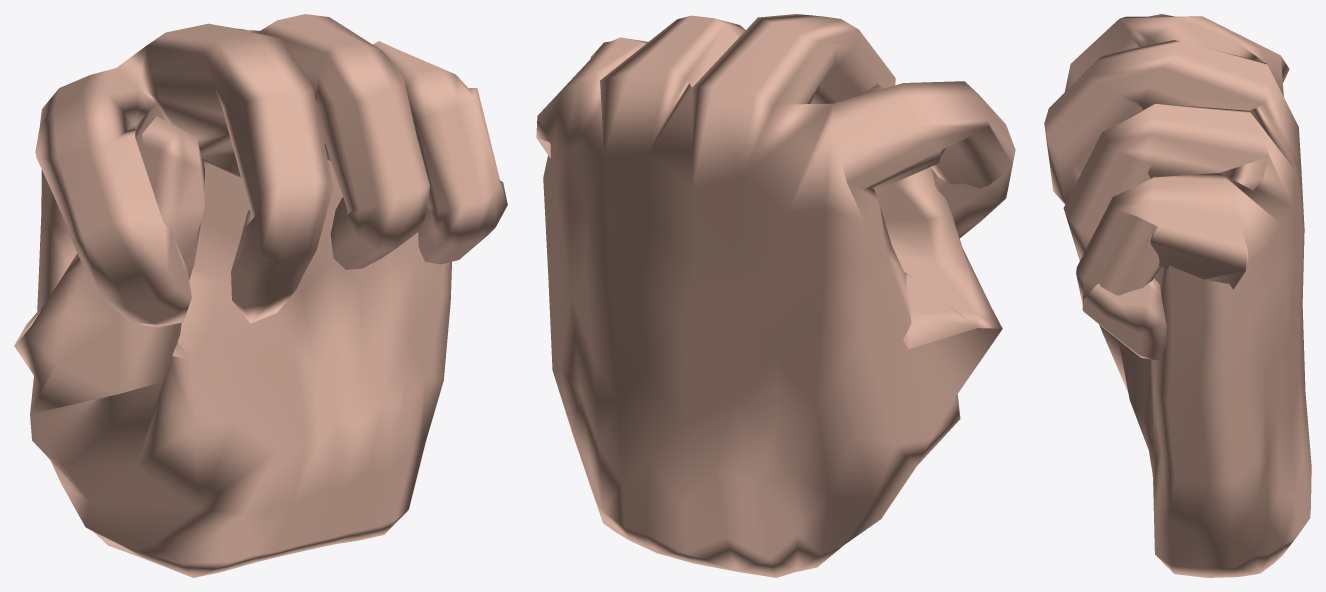
File: MAO_FIGA.obj
3 renders of one model, left to right at view 1: azimuth 30°, elevation 25°; view 2: azimuth 150°, elevation 25°; view 3: azimuth 270°, elevation 25°, orthographic. The views are drawn at different scales.
Visible parts, largest first — view 1: mao_dir polySurface1; view 2: mao_dir polySurface1; view 3: mao_dir polySurface1.
Boxes of the visible parts, <box> form: mao_dir polySurface1: <box>14,14,507,577</box>; mao_dir polySurface1: <box>536,14,1015,577</box>; mao_dir polySurface1: <box>1044,14,1311,577</box>.
Bounding box in the file's own units: 136 × 156 × 81.27.
